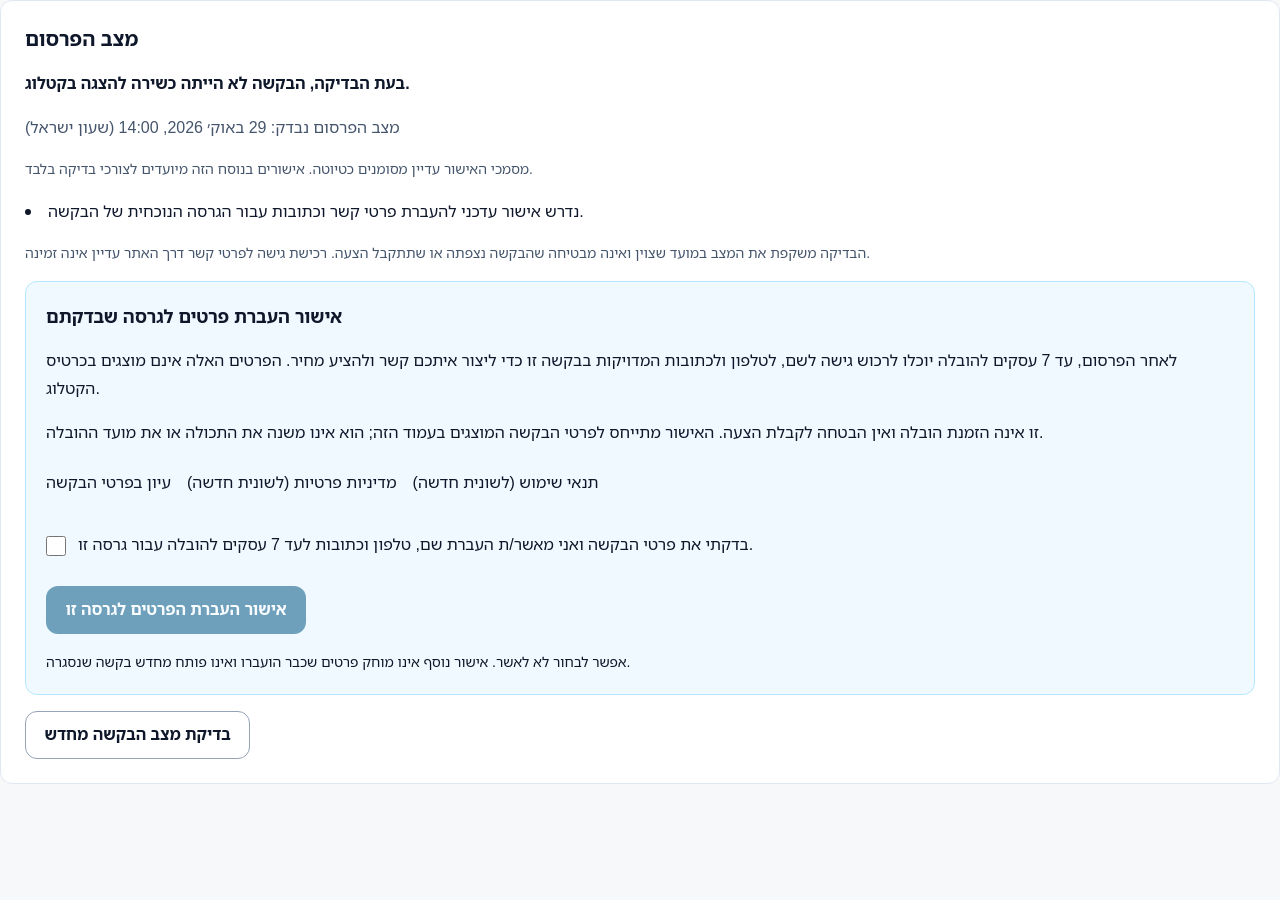
Test: an uncertain write requires reading the stored status and never resends automatically
What coordinates should you click on to do the following:
click the checkbox
I would click on:
 (56, 546)
Its box is [46,536,66,556].
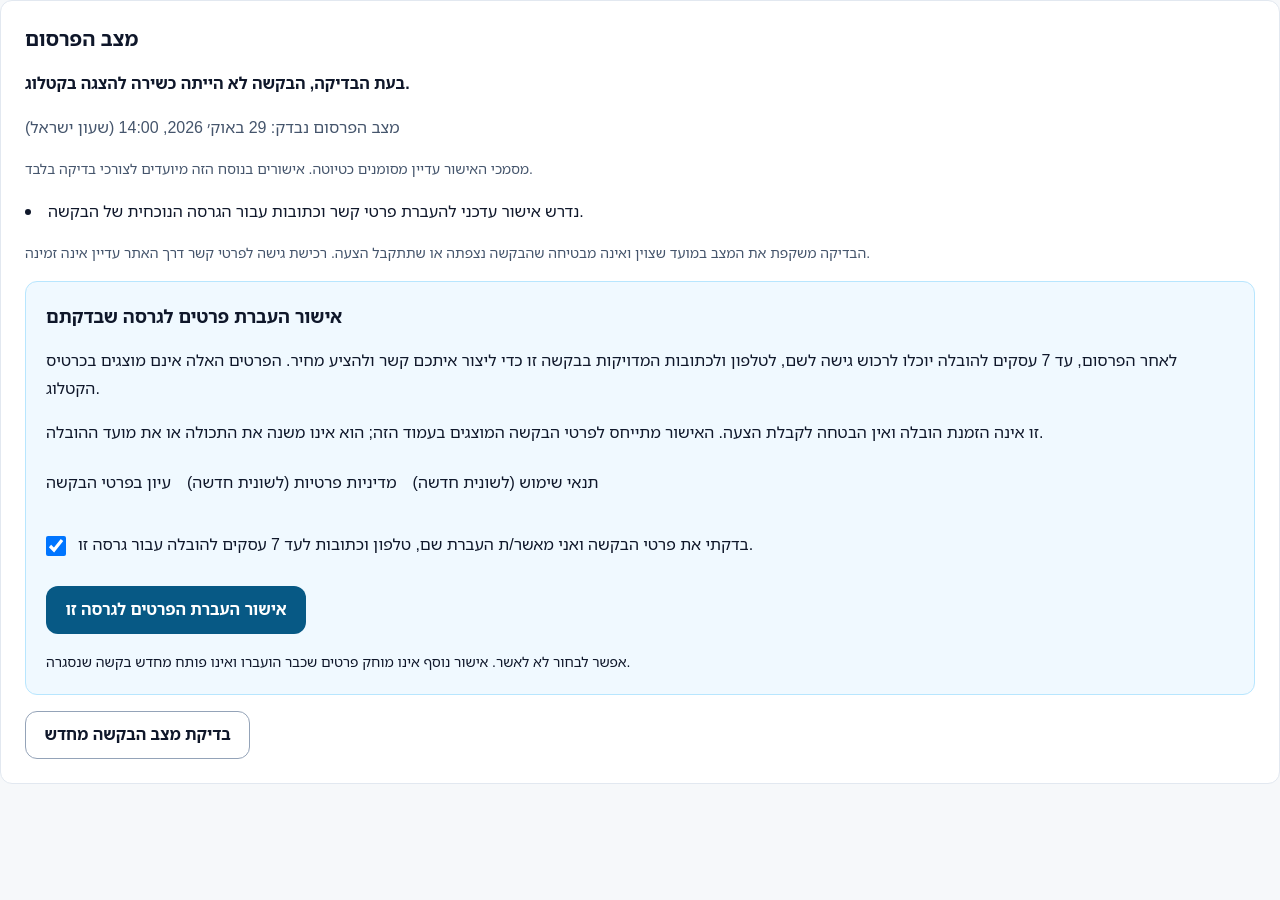
What coordinates should you click on to do the following:
click the button "אישור העברת הפרטים לגרסה זו"
I would click on:
 (176, 610)
Its box is [46,586,306,634].
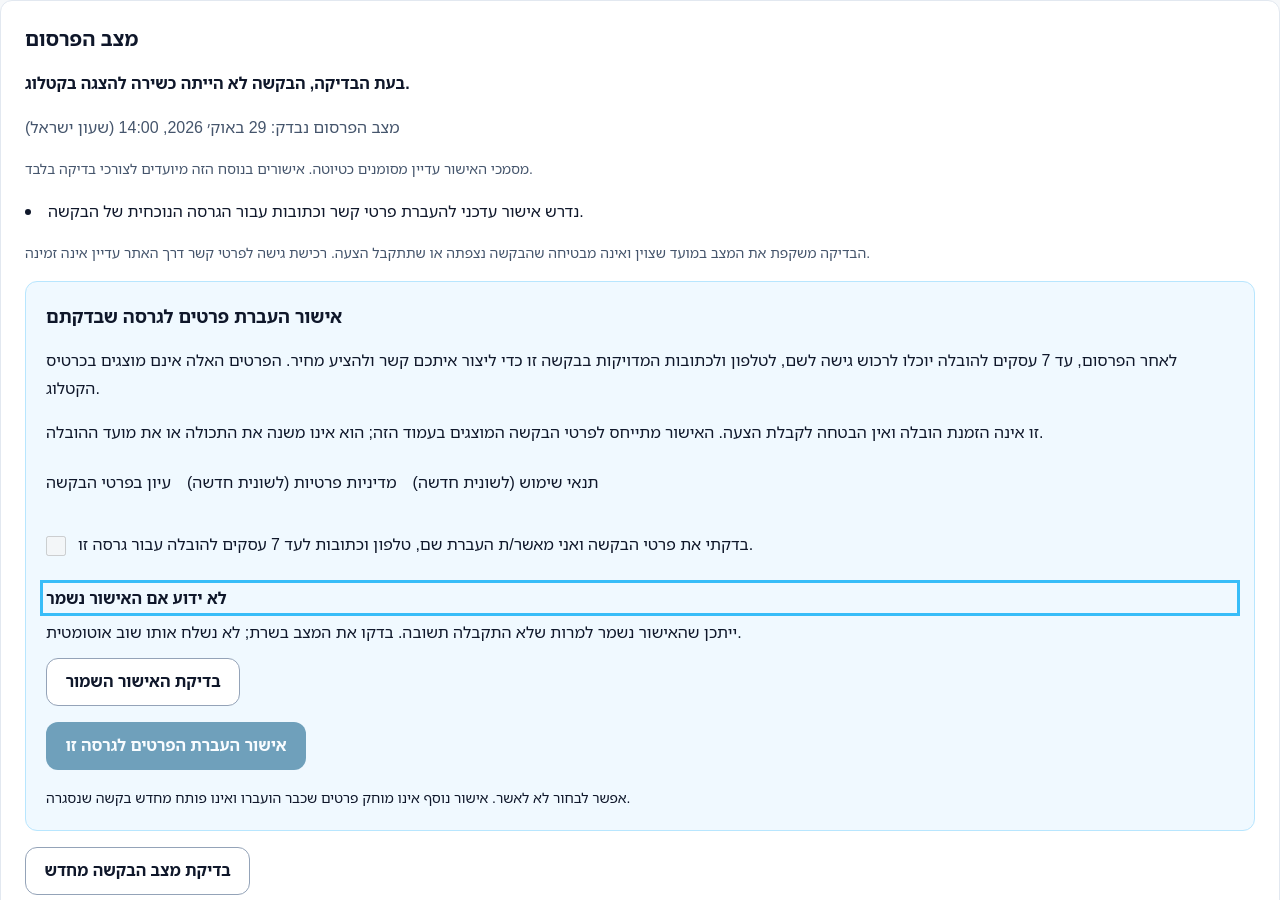
Result: the checkbox is not checked at [46,536,66,556]
Result: the checkbox is disabled at [46,536,66,556]
What coordinates should you click on to do the following:
click the button "בדיקת האישור השמור"
I would click on:
 (143, 682)
Its box is [46,658,240,706].
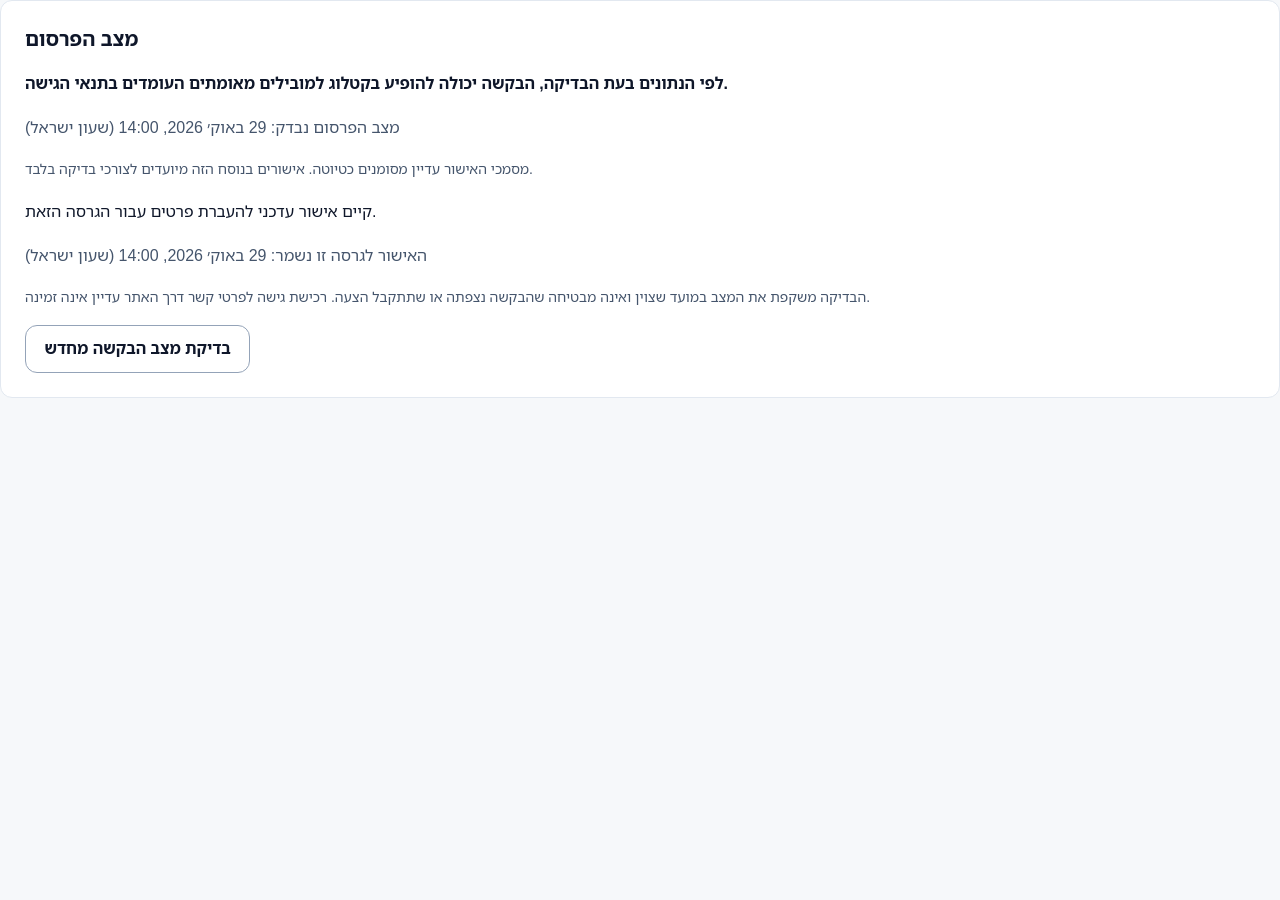
Result: the text "קיים אישור עדכני להעברת פרטים עבור הגרסה הזאת." is shown at [25,200,376,222]
